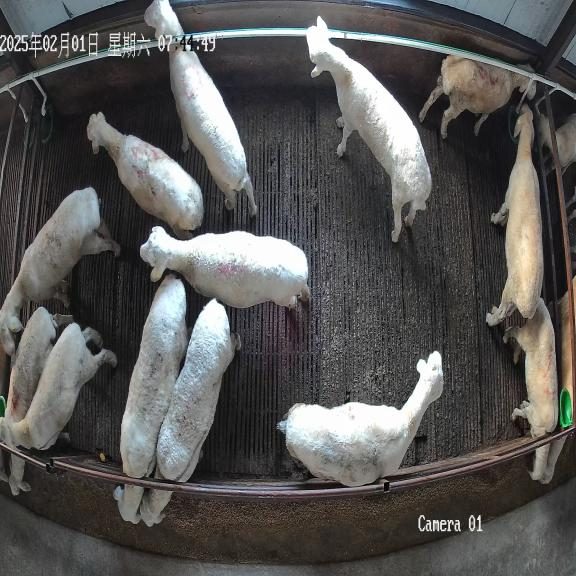eating: (140, 299, 239, 526), (113, 274, 188, 524), (0, 306, 72, 495), (504, 298, 559, 480)
stand: (306, 16, 432, 242), (144, 0, 256, 216), (277, 351, 443, 487), (0, 188, 120, 360), (0, 323, 117, 450), (87, 112, 204, 238), (140, 226, 310, 308), (486, 106, 543, 326), (419, 55, 536, 138)
